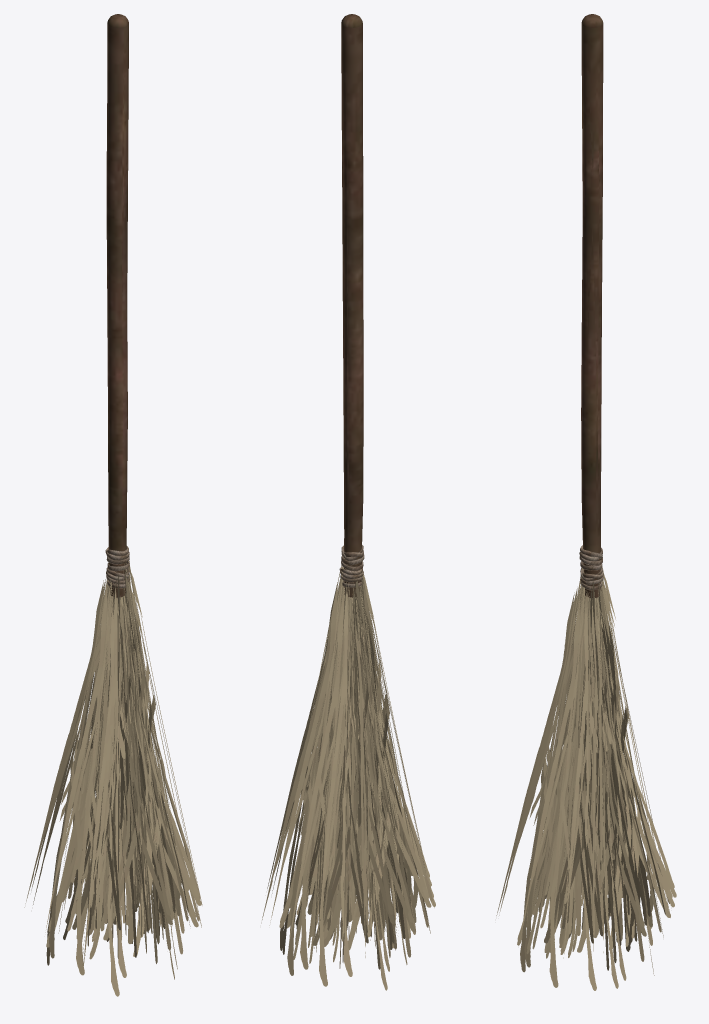
Rendered from Broom.glb.
The picture shows the model from 3 angles, left to right: view 1: azimuth 30°, elevation 25°; view 2: azimuth 150°, elevation 25°; view 3: azimuth 270°, elevation 25°; orthographic projection.
Parts seen in each view (by area): view 1: Broom; view 2: Broom; view 3: Broom.
Boxes of the visible parts, box(x1,y1,x2,y2) form: Broom: box(24, 14, 202, 996); Broom: box(261, 14, 435, 990); Broom: box(496, 14, 676, 990).
Size of the model in its own units: 0.3766 by 1.91 by 0.3803.
Materials: 3 (3 with a texture image).
